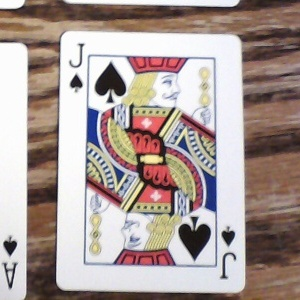card: (53, 30, 246, 293)
